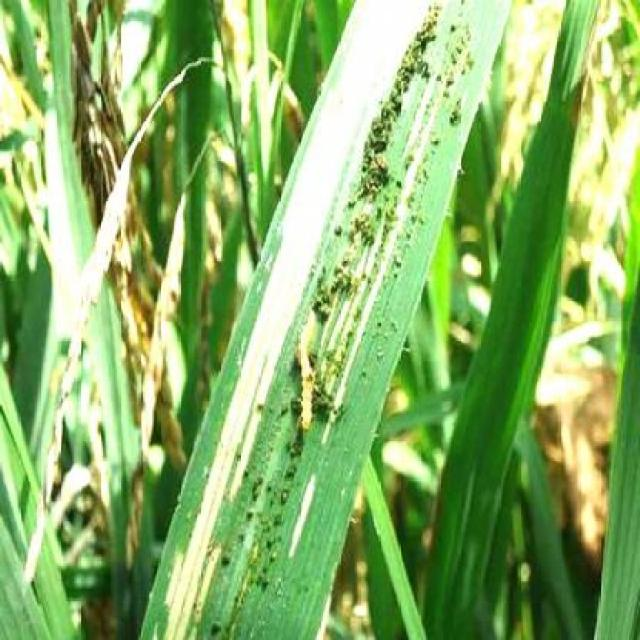leaf-folder: (284, 282, 328, 444)
